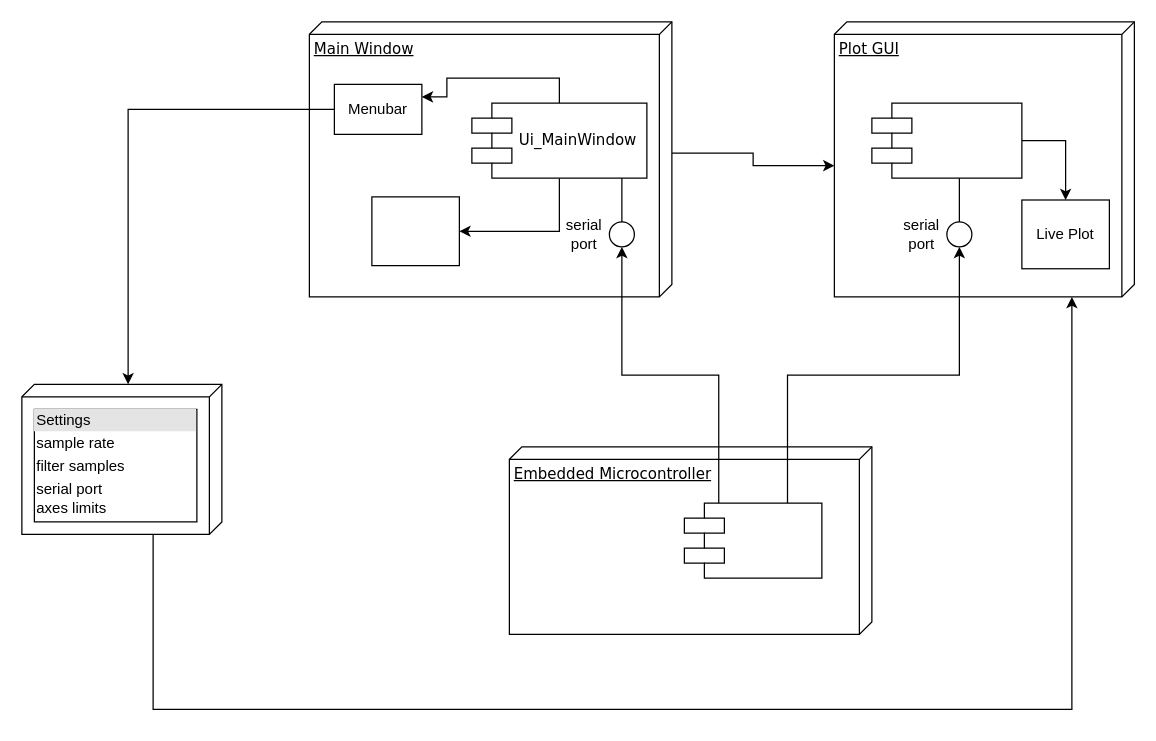
Image size: 1156x741. Some labels were removed from this diagram. The shapes that lost their labels are listed below. From the top down, each one's centre as x and y in pixels, then its label:
At (946,140): "Ui_Dialog".
At (415,231): "LCD Display".
At (752,540): "ADC".
